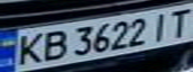2: (109, 17, 136, 51), (127, 14, 154, 47)
3: (69, 24, 97, 57)
6: (90, 20, 115, 55)
B: (36, 27, 69, 63)
I: (145, 10, 175, 42)
K: (9, 29, 48, 66)
T: (163, 6, 193, 38)
